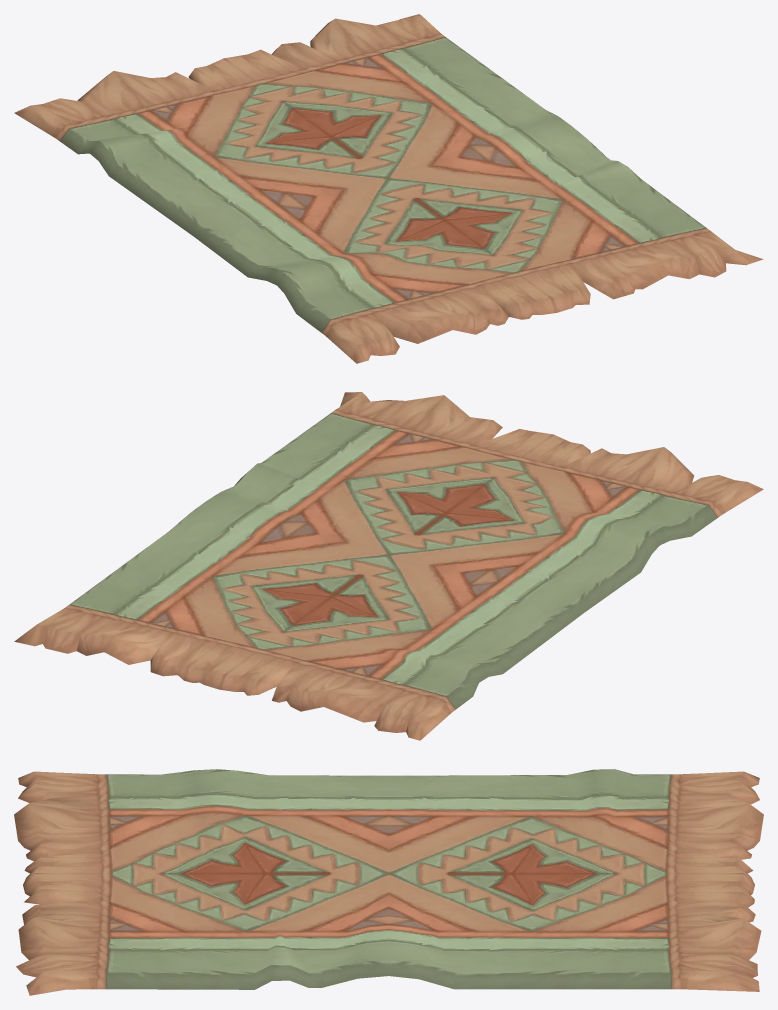
3 renders of one model, top to bottom at view 1: azimuth 30°, elevation 25°; view 2: azimuth 150°, elevation 25°; view 3: azimuth 270°, elevation 25°, orthographic. The views are drawn at different scales.
Size of the model in its own units: 1.75 by 0.0921 by 2.55.
1 material, 1 textured.
